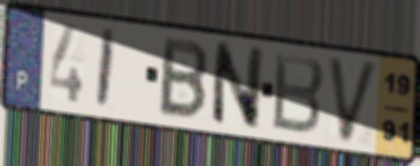4: (48, 21, 85, 108)
B: (270, 49, 327, 138), (156, 34, 210, 123)
I: (93, 25, 119, 112)
N: (209, 39, 267, 133)
V: (325, 54, 381, 147)
